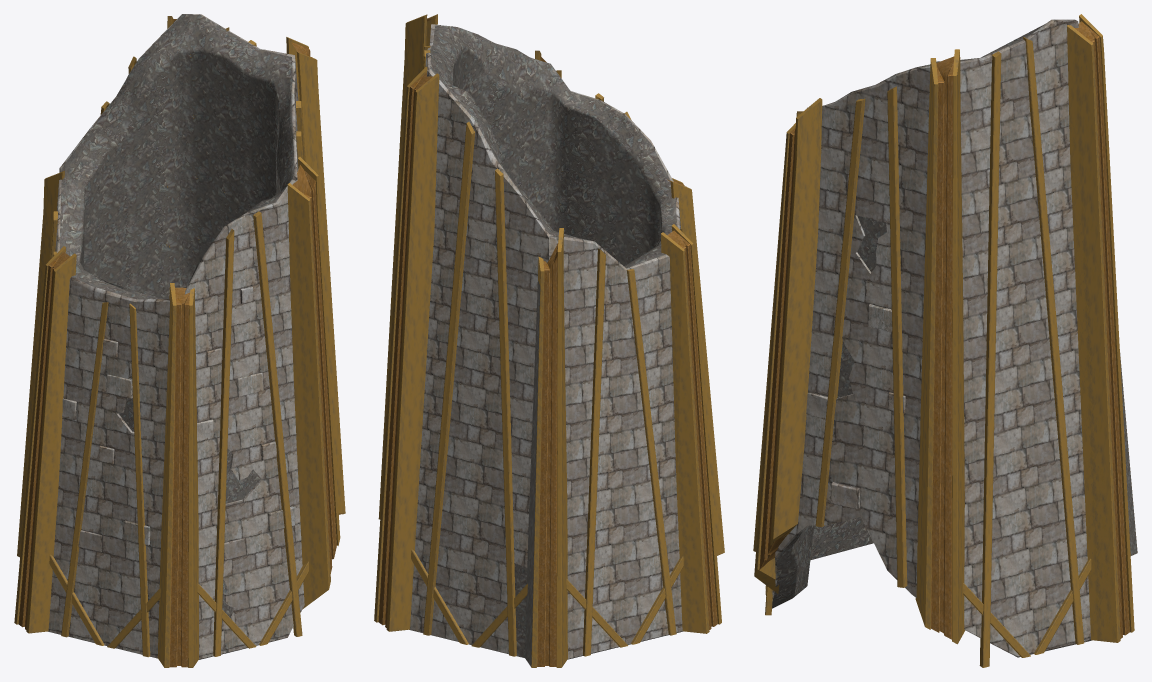
The picture shows the model from 3 angles, left to right: view 1: azimuth 30°, elevation 25°; view 2: azimuth 150°, elevation 25°; view 3: azimuth 270°, elevation 25°; orthographic projection. The views are drawn at different scales.
Parts seen in each view (by area): view 1: SM_KuldrasTower_Top_LOD0; view 2: SM_KuldrasTower_Top_LOD0; view 3: SM_KuldrasTower_Top_LOD0.
Part boxes in pixels (x1,y1,x2,y2): SM_KuldrasTower_Top_LOD0: [14, 14, 345, 667]; SM_KuldrasTower_Top_LOD0: [374, 14, 724, 667]; SM_KuldrasTower_Top_LOD0: [753, 14, 1137, 667].
Size of the model in its own units: 72.65 by 116 by 66.08.
Materials: 4 (4 with a texture image).
